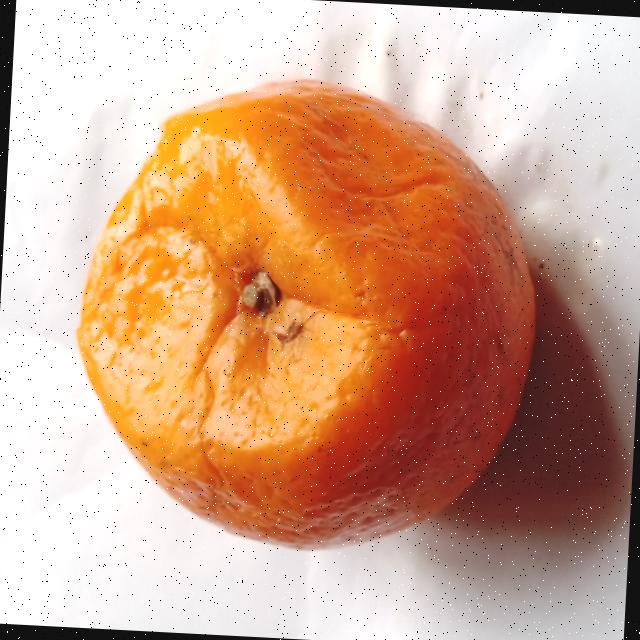Rotten: (62, 66, 550, 560)
